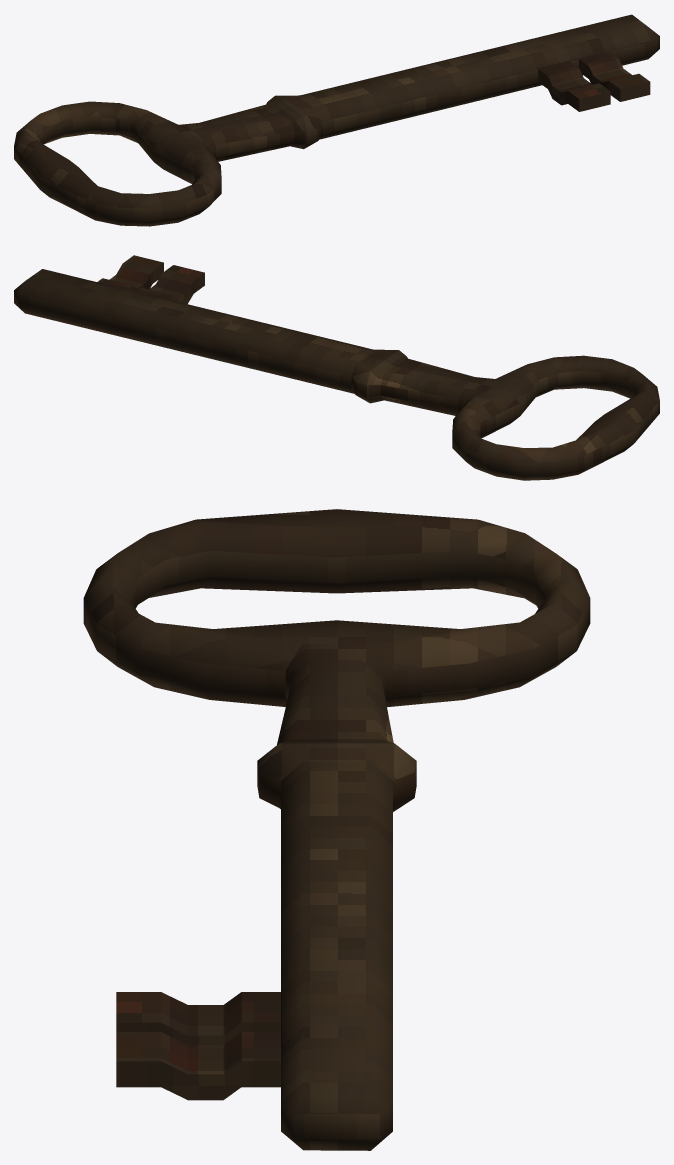
The model's file is key_mp_3_1.glb.
The picture shows the model from 3 angles, top to bottom: view 1: azimuth 30°, elevation 25°; view 2: azimuth 150°, elevation 25°; view 3: azimuth 270°, elevation 25°; orthographic projection. The views are drawn at different scales.
Visible parts, largest first — view 1: key_mp_3_1; view 2: key_mp_3_1; view 3: key_mp_3_1.
Part boxes in pixels (x1,y1,x2,y2): key_mp_3_1: (14,14,659,226); key_mp_3_1: (14,255,659,480); key_mp_3_1: (83,509,590,1150).
Size of the model in its own units: 0.1428 by 0.00726 by 0.0514.
Materials: 1 (1 with a texture image).
